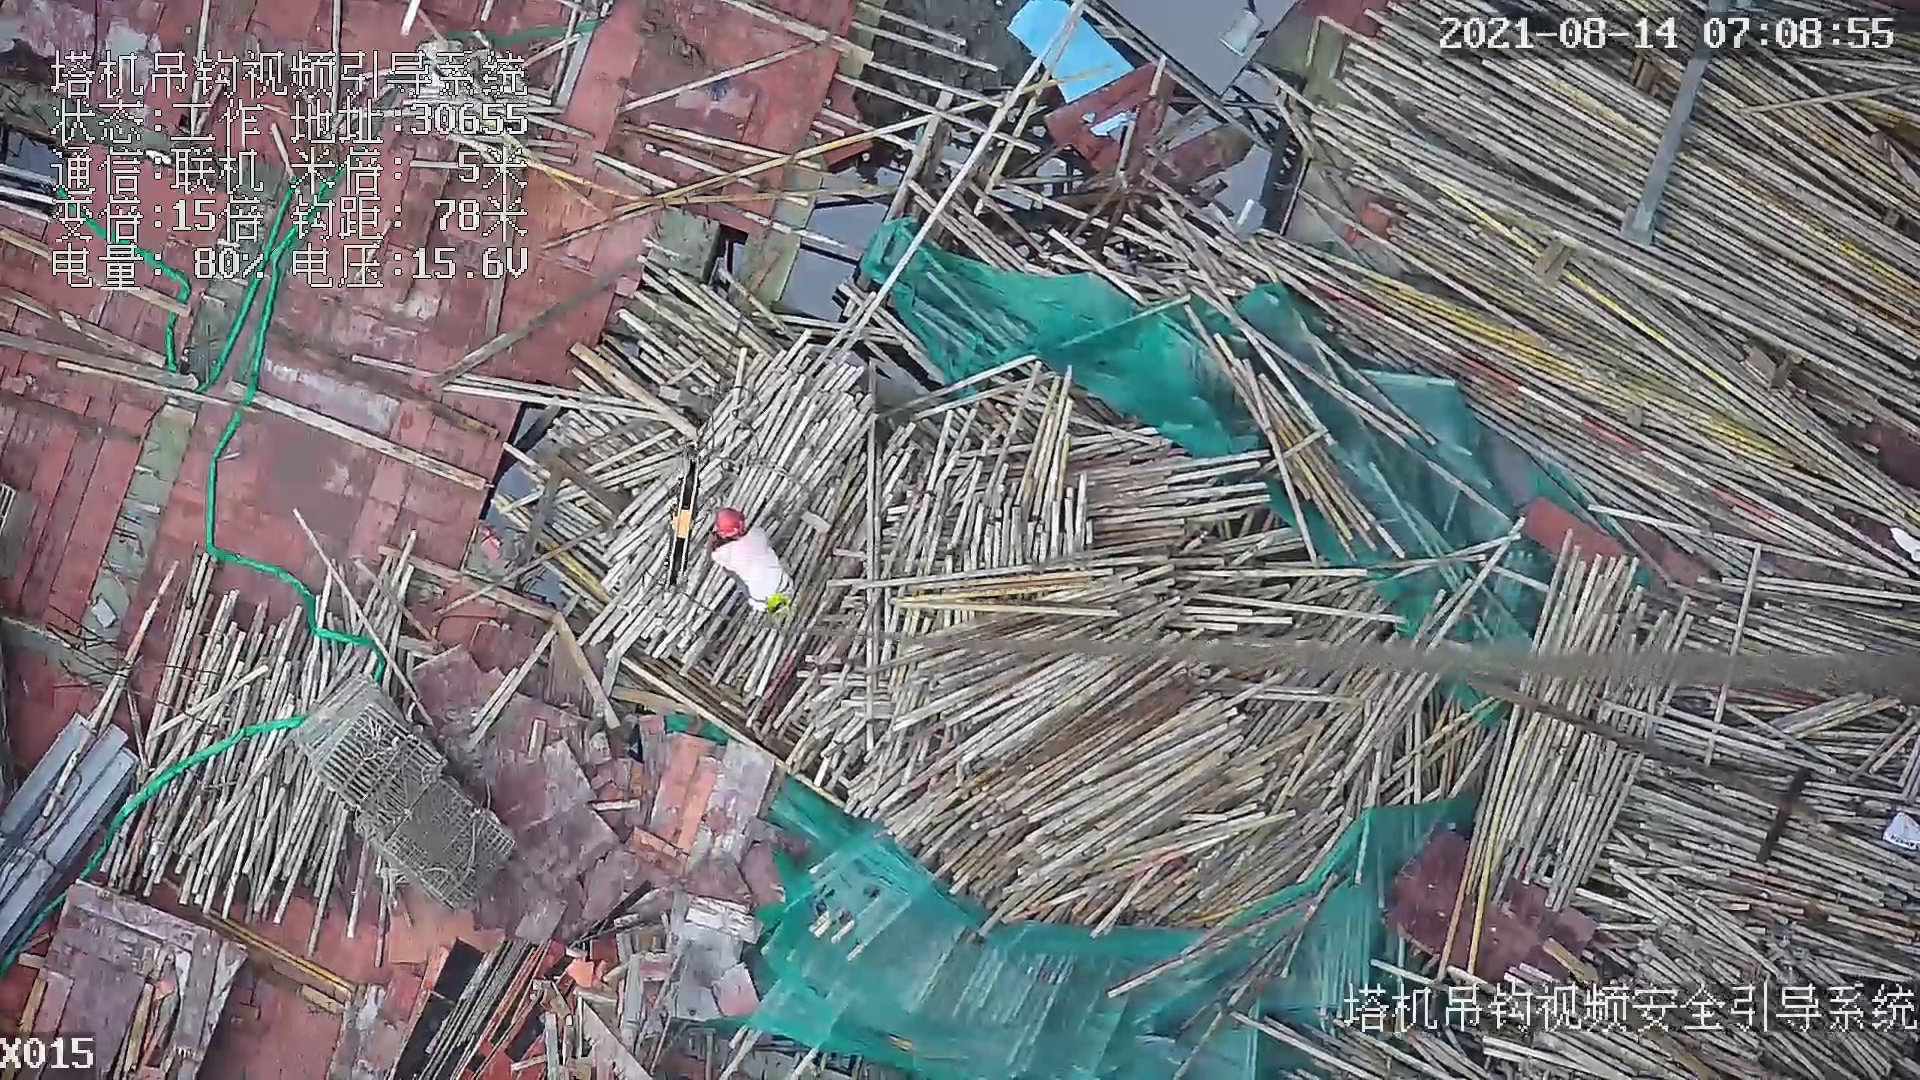helmet: (713, 506, 746, 541)
hook: (664, 442, 706, 597)
person: (710, 508, 796, 612)
